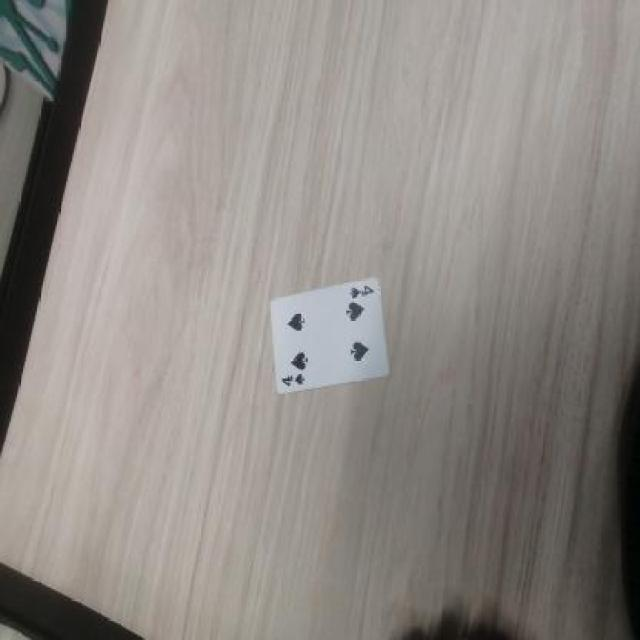4S: (345, 276, 381, 304), (280, 373, 312, 389)
